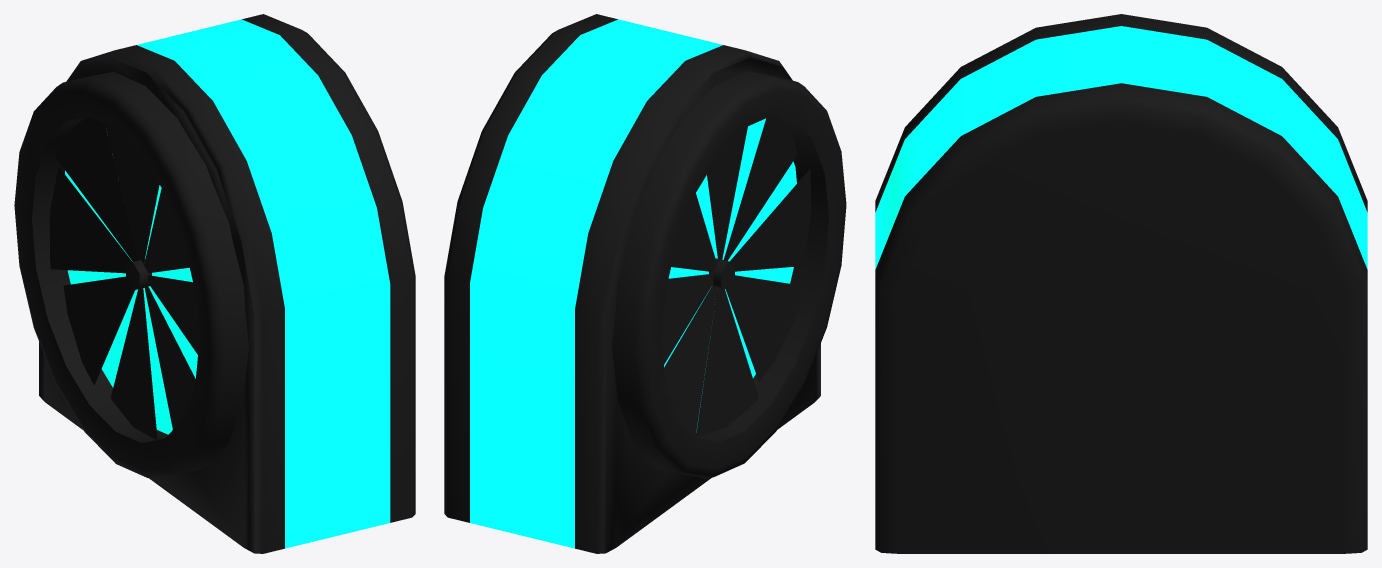
The model's file is FanFinal.FBX.
The picture shows the model from 3 angles, left to right: view 1: azimuth 30°, elevation 25°; view 2: azimuth 150°, elevation 25°; view 3: azimuth 270°, elevation 25°; orthographic projection. The views are drawn at different scales.
Parts seen in each view (by area): view 1: FanStructure, NGon008; view 2: FanStructure, NGon008; view 3: FanStructure.
Part boxes in pixels (x1,y1,x2,y2): FanStructure: [14, 14, 415, 553]; NGon008: [49, 116, 199, 439]; FanStructure: [444, 14, 846, 553]; NGon008: [661, 116, 811, 437]; FanStructure: [875, 14, 1367, 553].
Bounding box in the file's own units: 92.32 × 179 × 182.
